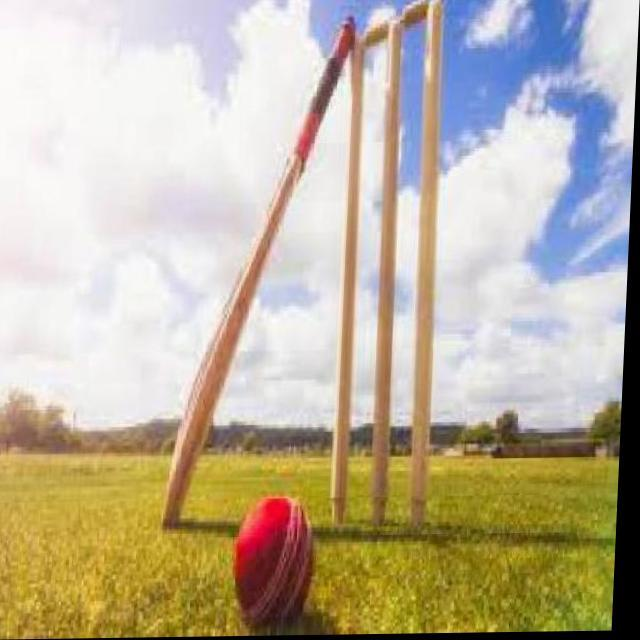-: (231, 480, 342, 637)
